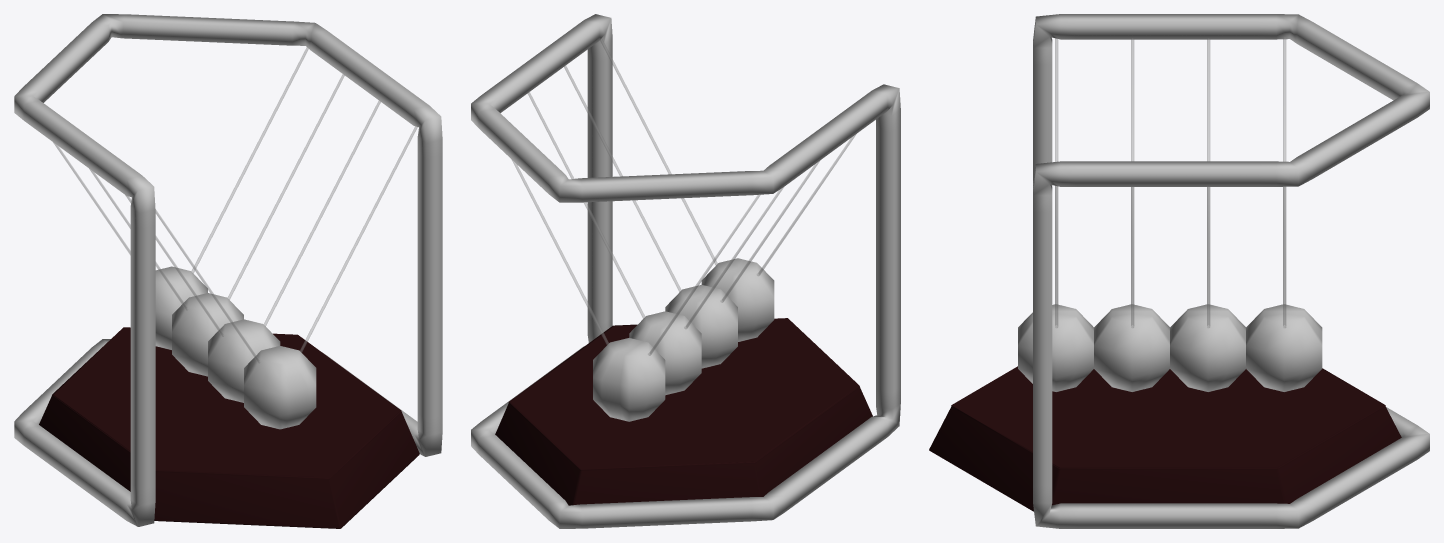
The model's file is desk toy.gltf.
The picture shows the model from 3 angles, left to right: view 1: azimuth 30°, elevation 25°; view 2: azimuth 150°, elevation 25°; view 3: azimuth 270°, elevation 25°; orthographic projection. The views are drawn at different scales.
Parts seen in each view (by area): view 1: desk toy; view 2: desk toy; view 3: desk toy.
Boxes of the visible parts, box(x1,y1,x2,y2) form: desk toy: box(14, 14, 442, 528); desk toy: box(471, 14, 900, 528); desk toy: box(929, 14, 1429, 528).
Size of the model in its own units: 0.1463 by 0.1576 by 0.199.
